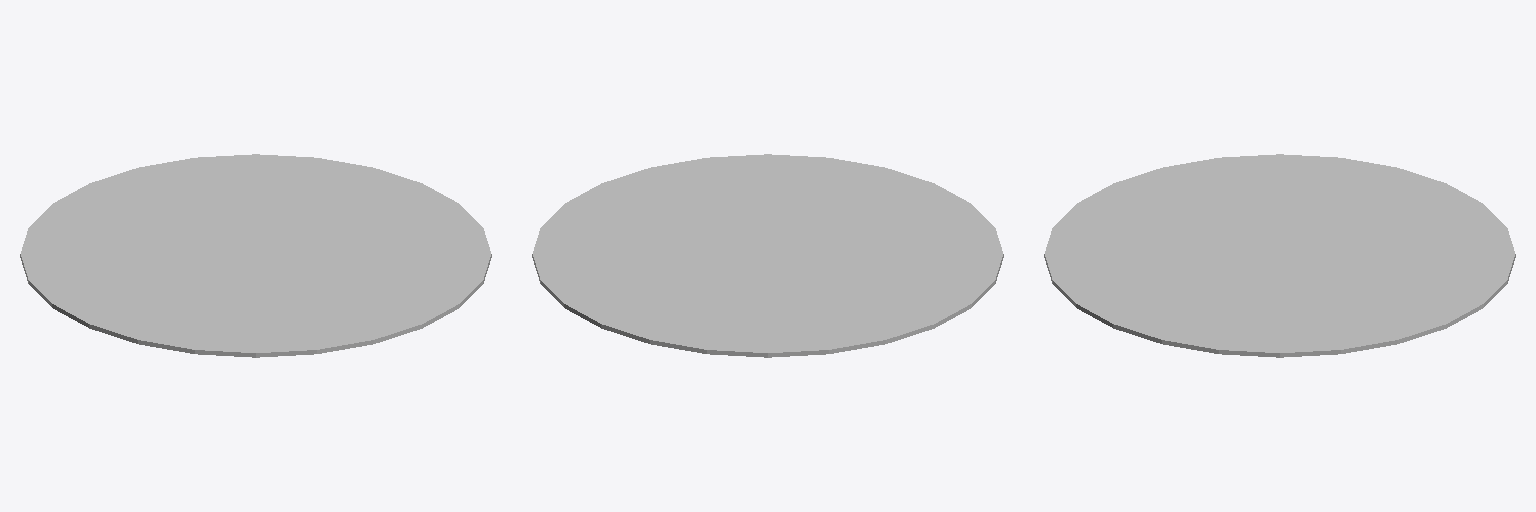
File: MagnifyingGlassHitBox1.obj
The picture shows the model from 3 angles: view 1: azimuth 30°, elevation 25°; view 2: azimuth 150°, elevation 25°; view 3: azimuth 270°, elevation 25°; orthographic projection.
Parts seen in each view (by area): view 1: MGarea (1); view 2: MGarea (1); view 3: MGarea (1).
Boxes of the visible parts, x1=… form: MGarea (1): x1=20, y1=154, x2=491, y2=357; MGarea (1): x1=532, y1=154, x2=1003, y2=357; MGarea (1): x1=1044, y1=154, x2=1515, y2=357.
Size of the model in its own units: 2 by 0.0205 by 2.